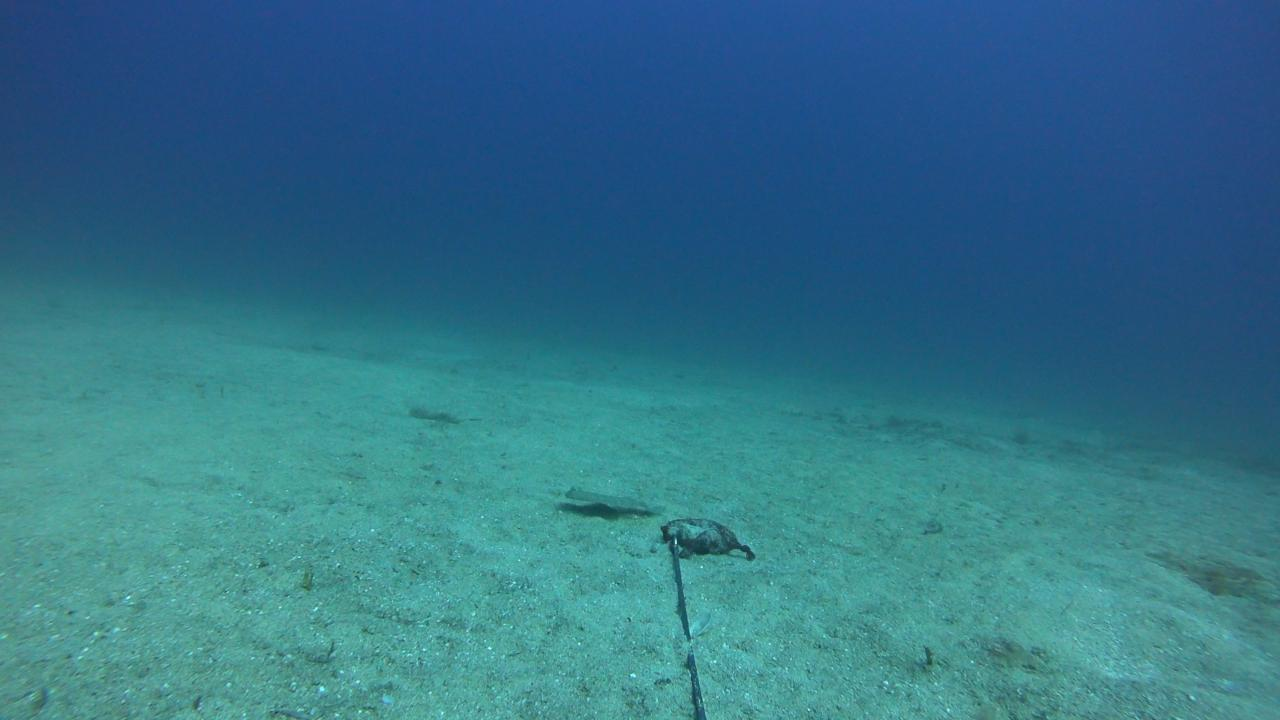bothus: (556, 478, 671, 519)
